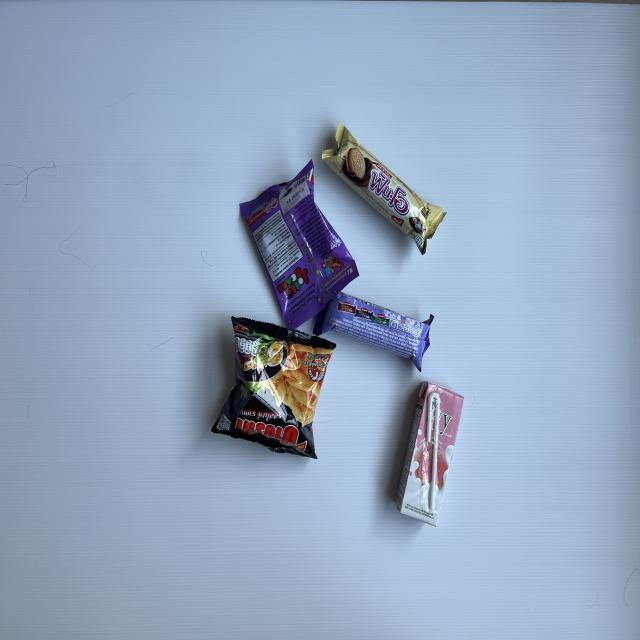candy: (240, 158, 359, 336)
cracker: (321, 121, 448, 257), (312, 281, 434, 374)
milk: (394, 378, 465, 530)
snack: (210, 314, 336, 462)
